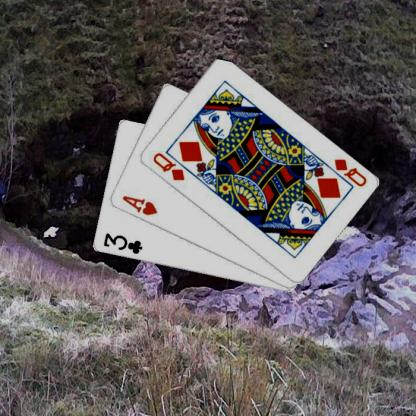3C: (101, 231, 144, 256)
AH: (119, 193, 158, 217)
QD: (331, 156, 368, 188), (150, 150, 185, 182)
